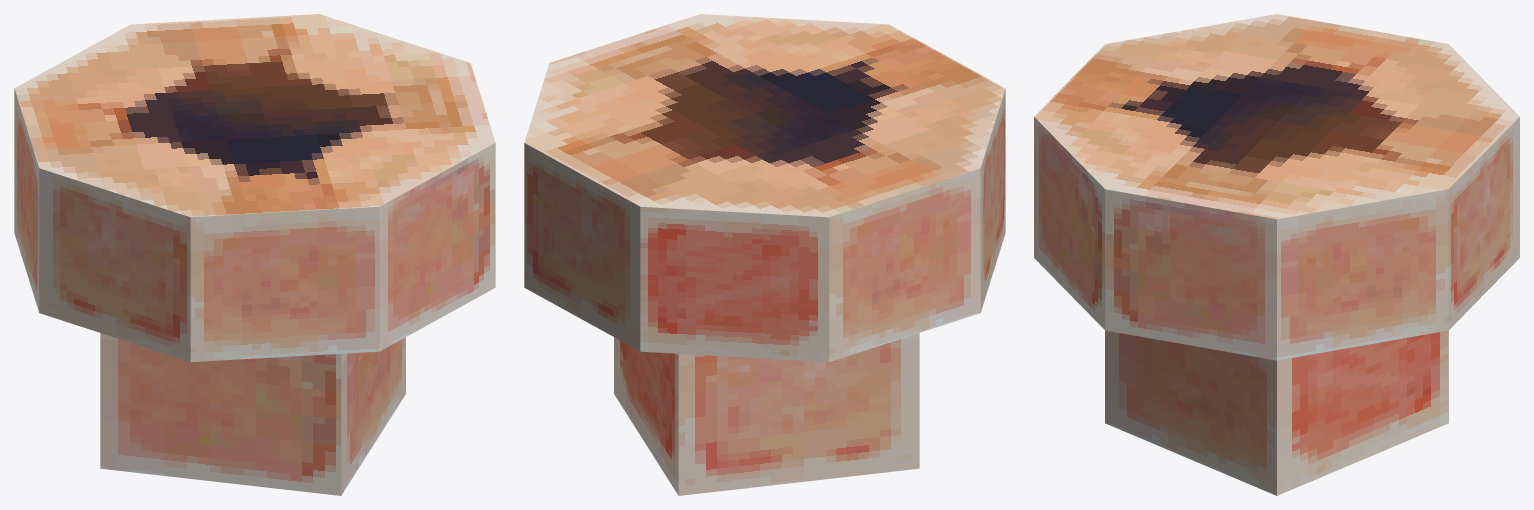
The model's file is riccoswitch.dae.
3 views of the same model, side by side, from view 1: azimuth 30°, elevation 25°; view 2: azimuth 150°, elevation 25°; view 3: azimuth 270°, elevation 25° (orthographic). The views are drawn at different scales.
Visible parts, largest first — view 1: m0; view 2: m0; view 3: m0.
Part boxes in pixels (x1,y1,x2,y2): m0: (14, 14, 495, 495); m0: (524, 14, 1005, 495); m0: (1034, 14, 1519, 495).
Size of the model in its own units: 265 by 185 by 265.
Materials: 1 (1 with a texture image).
